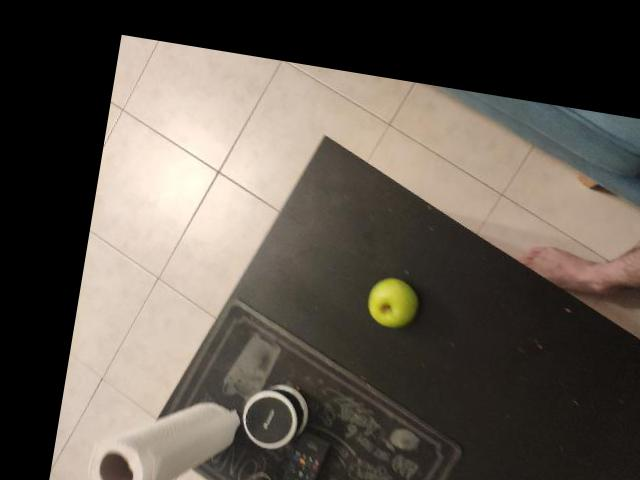apple: (283, 196, 344, 267)
